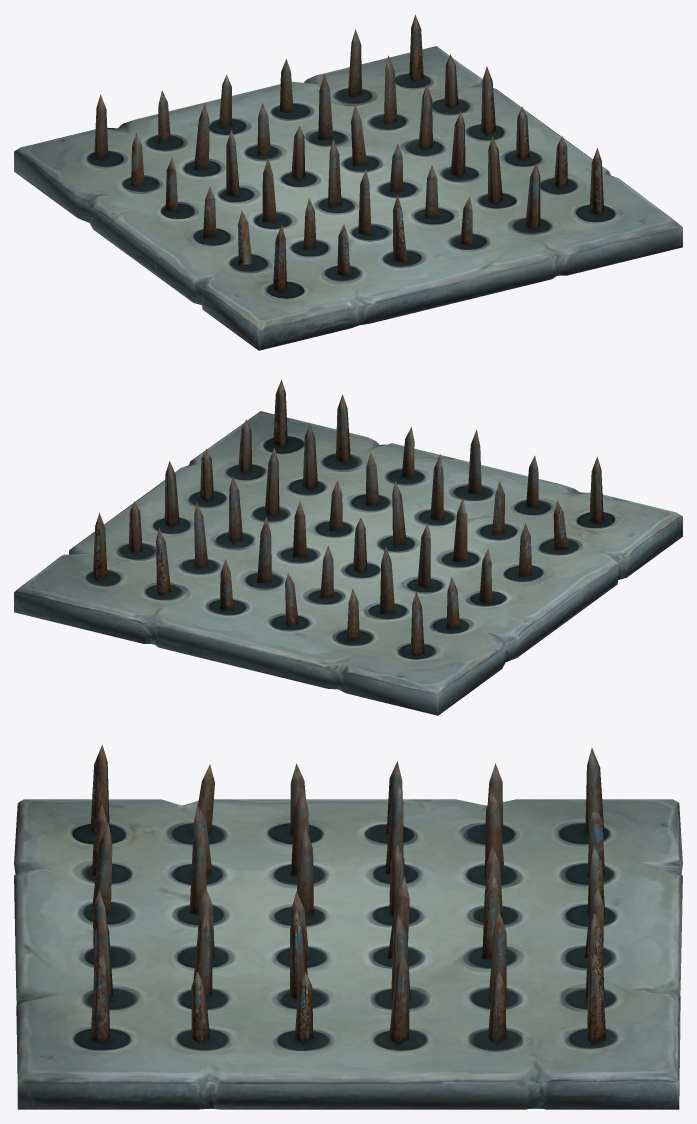
File: trappola_punte.glb
The picture shows the model from 3 angles, top to bottom: view 1: azimuth 30°, elevation 25°; view 2: azimuth 150°, elevation 25°; view 3: azimuth 270°, elevation 25°; orthographic projection. The views are drawn at different scales.
Visible parts, largest first — view 1: trappola_punte; view 2: trappola_punte; view 3: trappola_punte.
Boxes of the visible parts, <box> form: trappola_punte: <box>14,14,682,350</box>; trappola_punte: <box>14,379,682,715</box>; trappola_punte: <box>14,744,682,1109</box>.
Size of the model in its own units: 0.981 by 0.2163 by 0.9829.
1 material, 1 textured.
